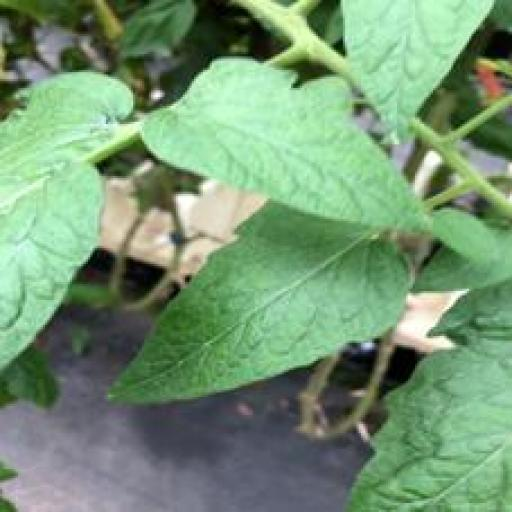Healthy: (96, 199, 416, 407), (140, 56, 432, 236)
